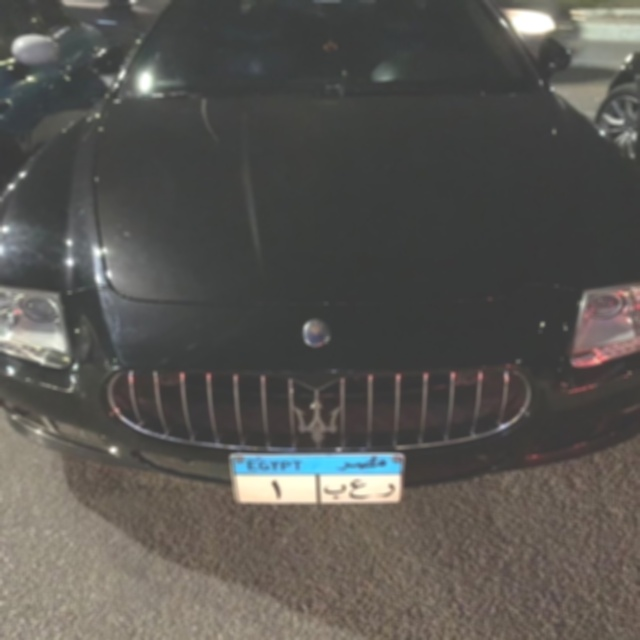License Plate: (228, 453, 406, 506)
